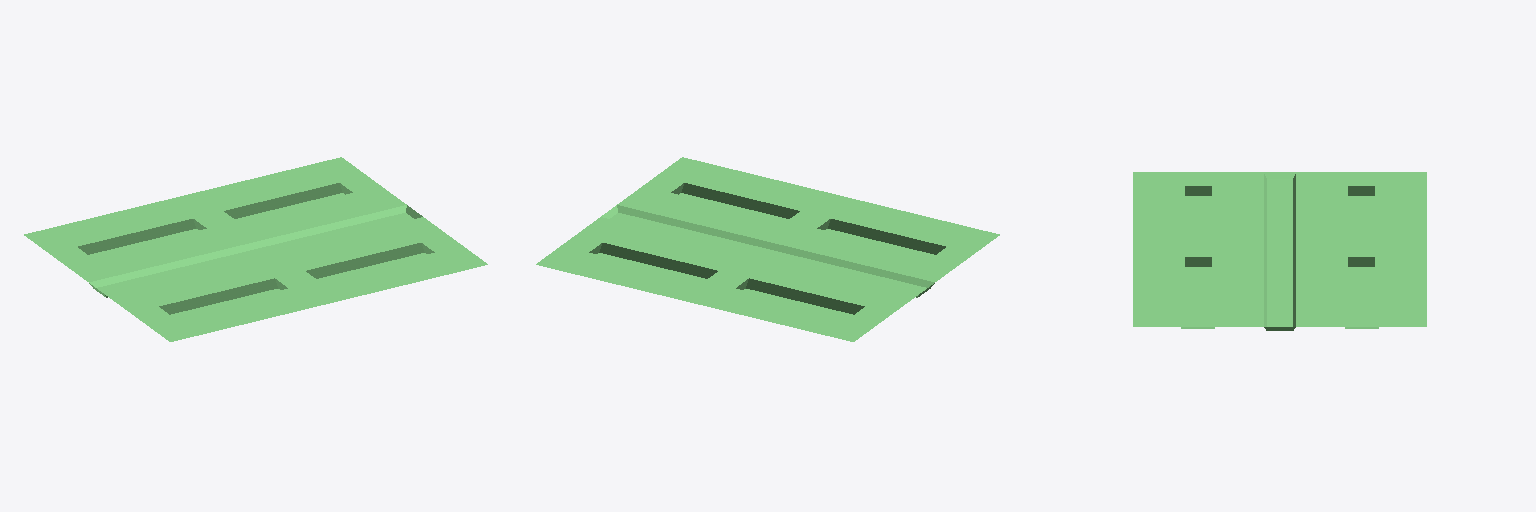
File: ContainerRoof.obj
The picture shows the model from 3 angles: view 1: azimuth 30°, elevation 25°; view 2: azimuth 150°, elevation 25°; view 3: azimuth 270°, elevation 25°; orthographic projection.
Visible parts, largest first — view 1: Plane004; view 2: Plane004; view 3: Plane004.
Boxes of the visible parts, x1=… form: Plane004: x1=24, y1=157, x2=487, y2=341; Plane004: x1=536, y1=157, x2=999, y2=341; Plane004: x1=1133, y1=172, x2=1426, y2=330.
Size of the model in its own units: 600 by 22.67 by 480.